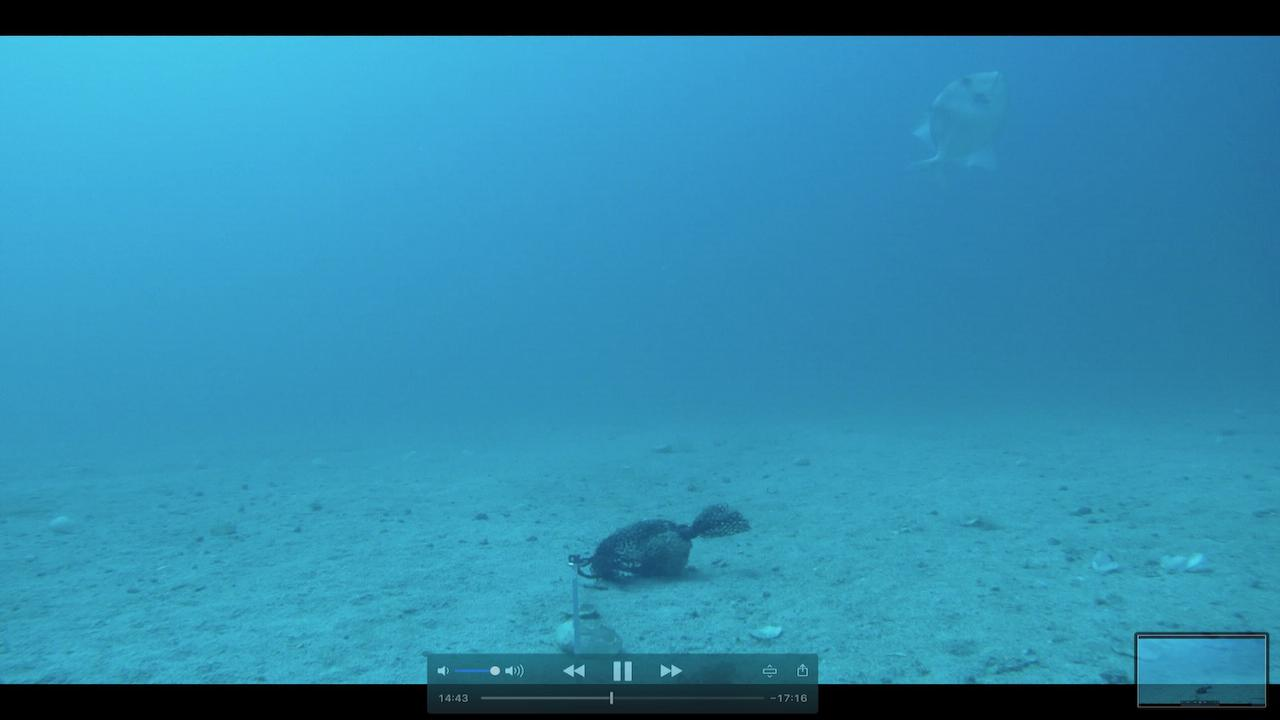balistes: (902, 68, 1008, 194)
